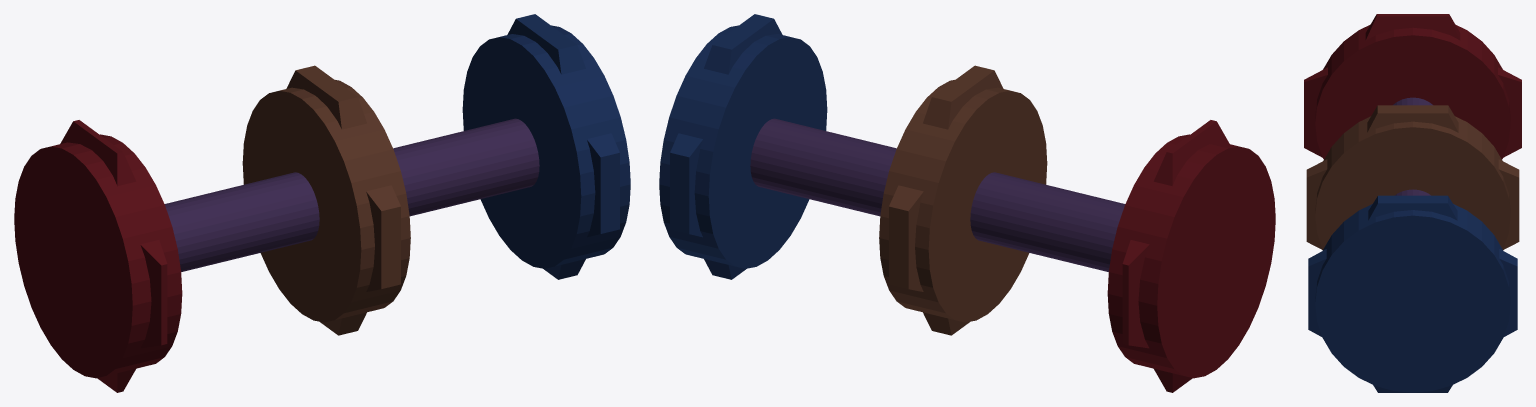
Rendered from obstacle_3.fbx.
The picture shows the model from 3 angles, left to right: view 1: azimuth 30°, elevation 25°; view 2: azimuth 150°, elevation 25°; view 3: azimuth 270°, elevation 25°; orthographic projection. The views are drawn at different scales.
Parts seen in each view (by area): view 1: obstacle_3_barell; view 2: obstacle_3_barell; view 3: obstacle_3_barell.
Part boxes in pixels (left/top/right/bottom): obstacle_3_barell: left=14, top=14, right=630, bottom=392; obstacle_3_barell: left=659, top=14, right=1275, bottom=392; obstacle_3_barell: left=1304, top=14, right=1521, bottom=392.
Bounding box in the file's own units: 800 × 368 × 368.
